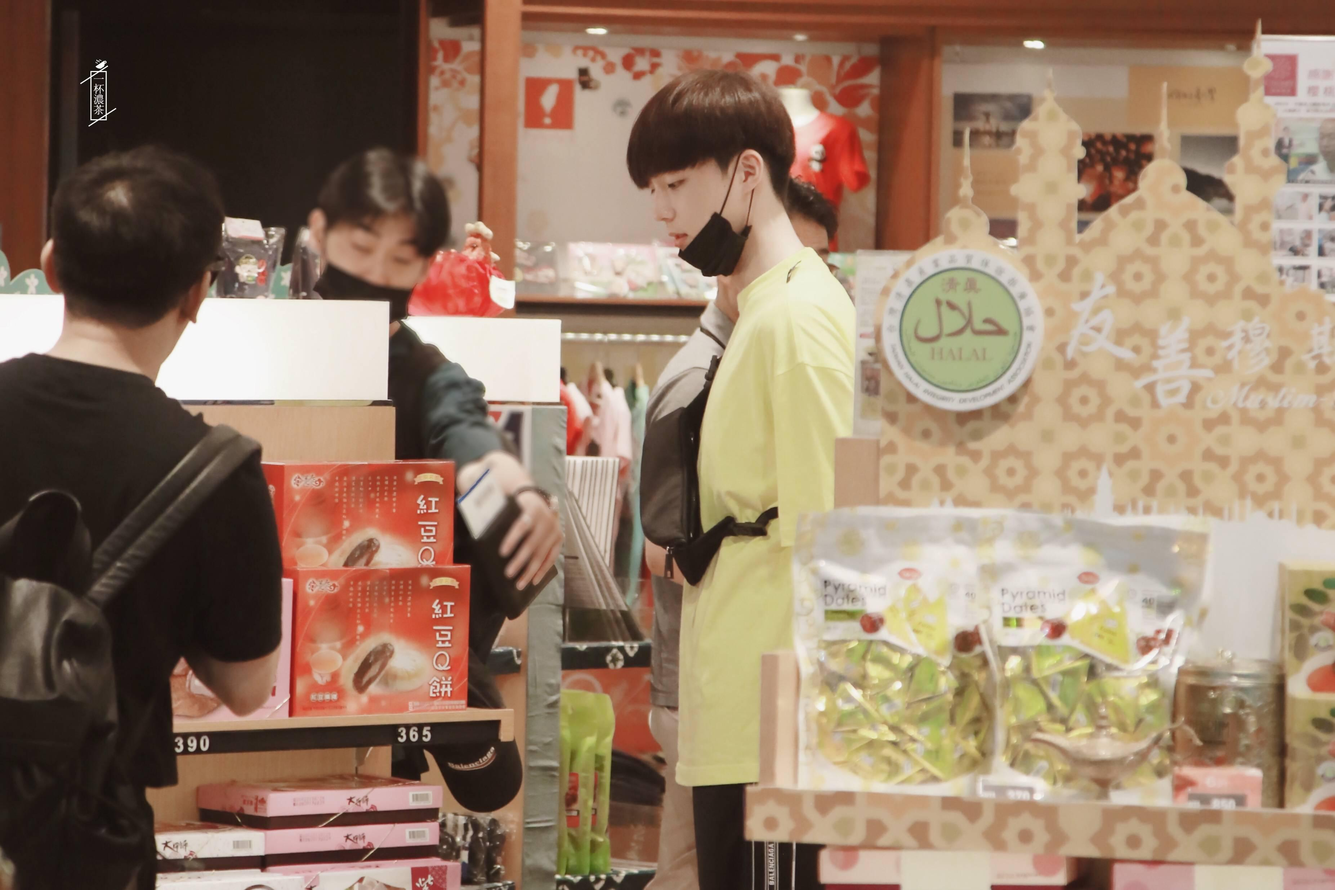WRONG: (321, 224, 423, 329), (649, 152, 733, 277)
